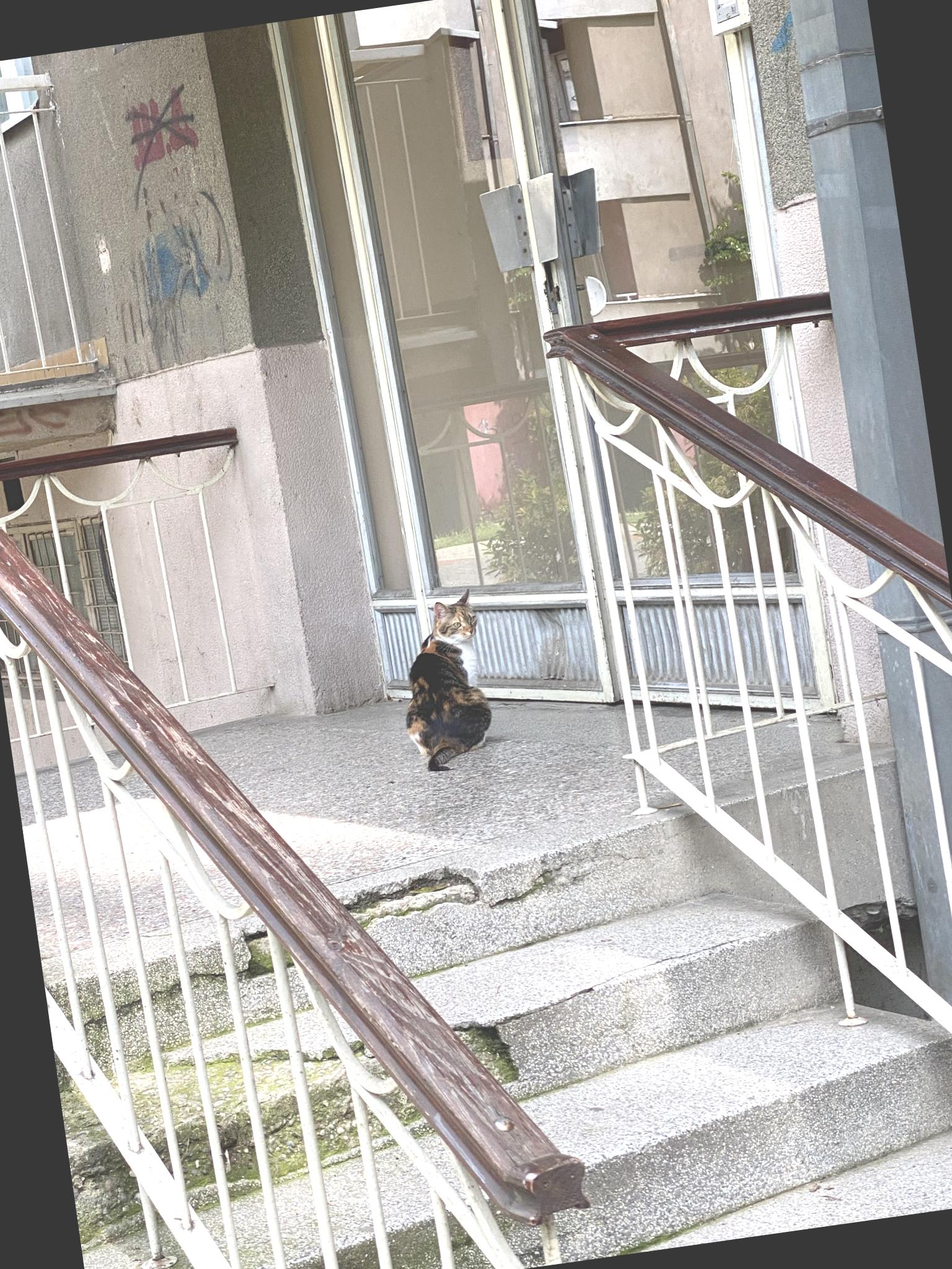macka: (387, 587, 500, 775)
